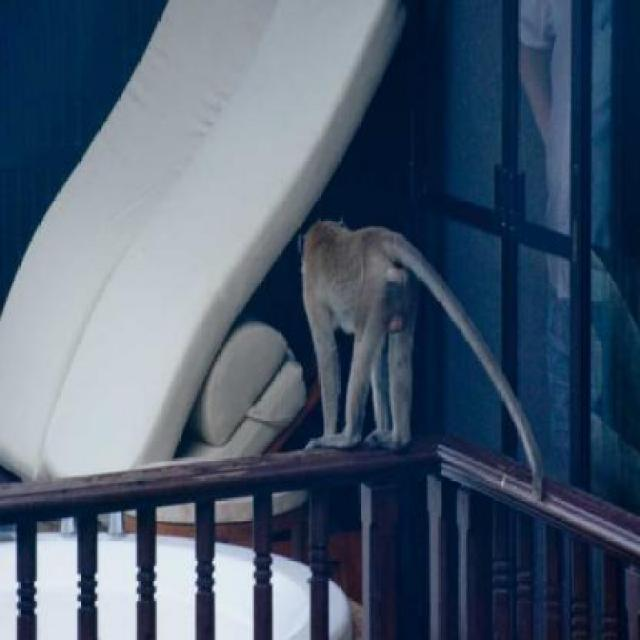Monkey: (265, 206, 563, 519)
